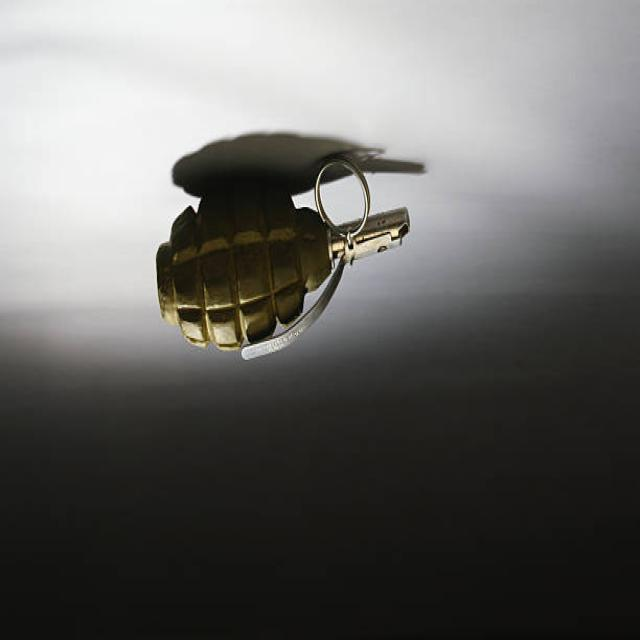grenade: (150, 150, 415, 366)
